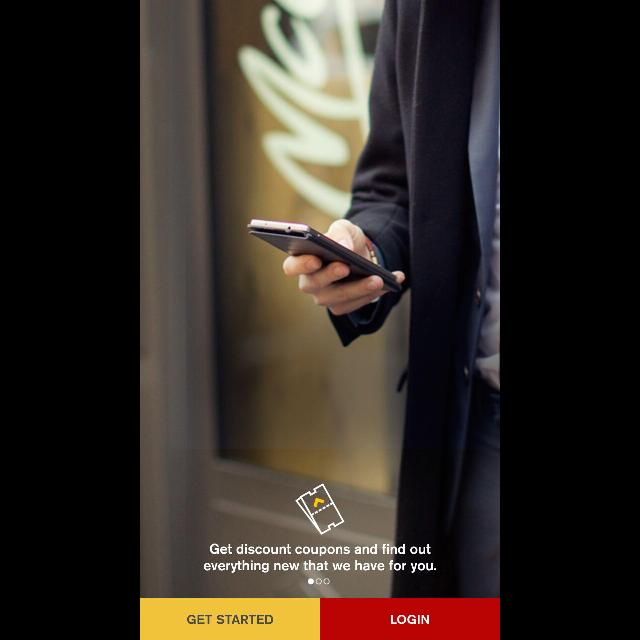backgroundimage: (140, 0, 500, 598)
image: (295, 483, 345, 535)
pageindicator: (308, 578, 330, 586)
text: (204, 543, 436, 573)
textbutton: (140, 598, 320, 640), (320, 598, 500, 640)
